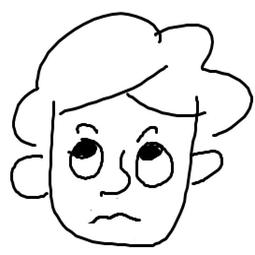ear: (8, 146, 56, 203), (185, 147, 230, 192)
eye: (132, 142, 176, 187), (65, 136, 106, 182)
eyebrow: (71, 119, 103, 136)
frowning_eyebrow: (129, 123, 161, 142)
large_nose: (102, 147, 133, 202)
line_unsmiling_mouth: (85, 207, 148, 229)
